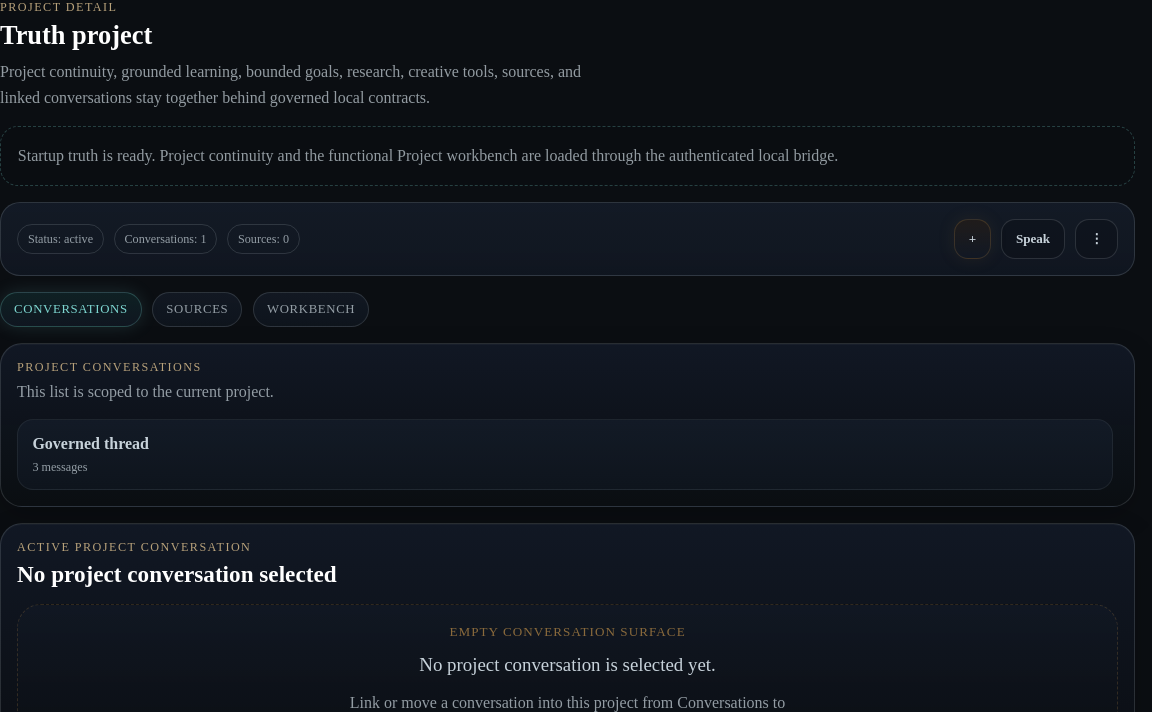
Test: ProjectDetailPage conversations › routes real conversation work and exposes restored project capabilities as live actions
Check: the text "Governed thread" is shown, box x1=32 y1=435 x2=149 y2=453
Check: the button "Speak" is enabled, box x1=1001 y1=219 x2=1065 y2=259
Click the button "+" at (972, 239), box x1=954 y1=219 x2=991 y2=259
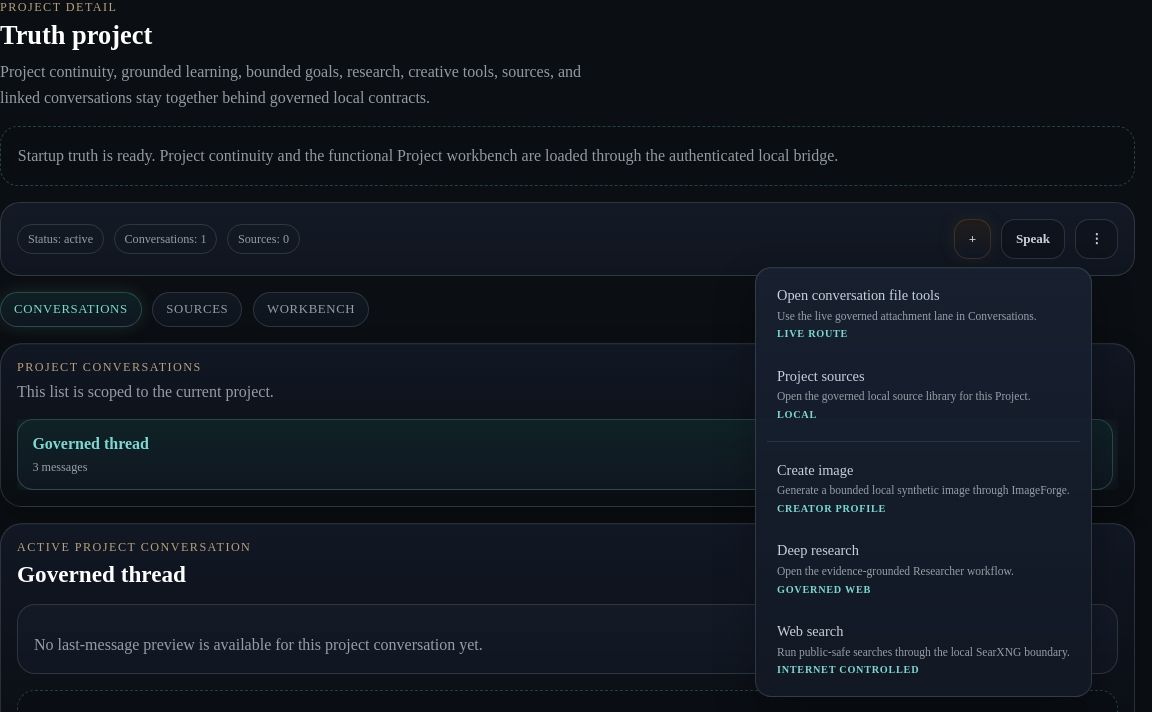
Check: the button "Open conversation file tools" is enabled
Check: the button "Project sources" is enabled, box x1=763 y1=356 x2=1083 y2=433
Check: the button "Create image" is enabled, box x1=763 y1=450 x2=1083 y2=527
Click the button "Open conversation file tools" at (923, 314), box x1=763 y1=275 x2=1083 y2=352
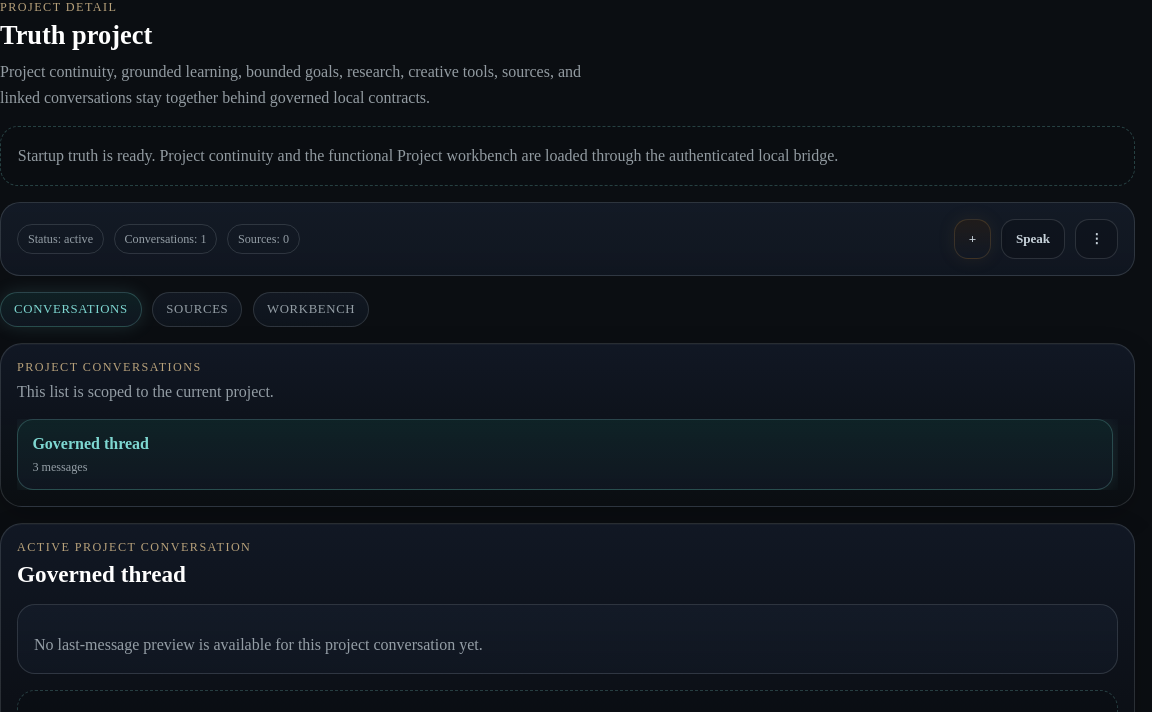
Click the button "⋮" at (1096, 239), box x1=1075 y1=219 x2=1118 y2=259
(page scrolled)
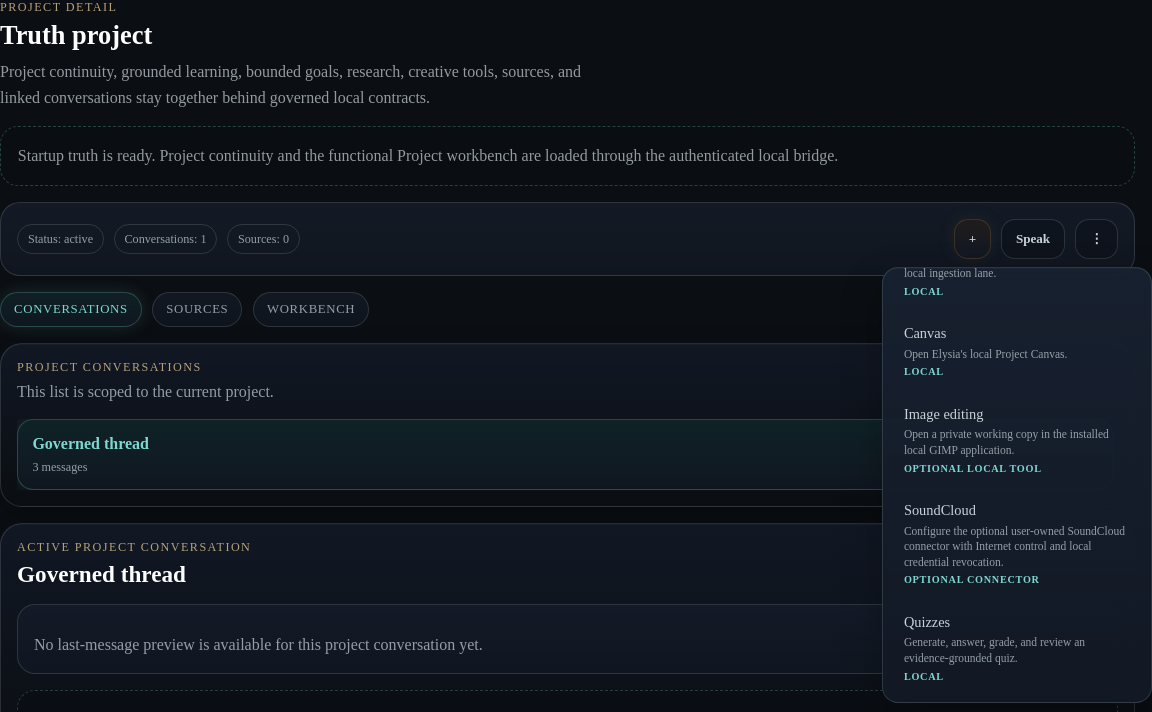
Check: the button "Canvas Open Elysia's local Project Canvas. Local" is enabled, box x1=890 y1=313 x2=1144 y2=390
Check: the button "Image editing" is enabled, box x1=890 y1=394 x2=1144 y2=487
Check: the button "Quizzes" is enabled, box x1=890 y1=602 x2=1144 y2=695
